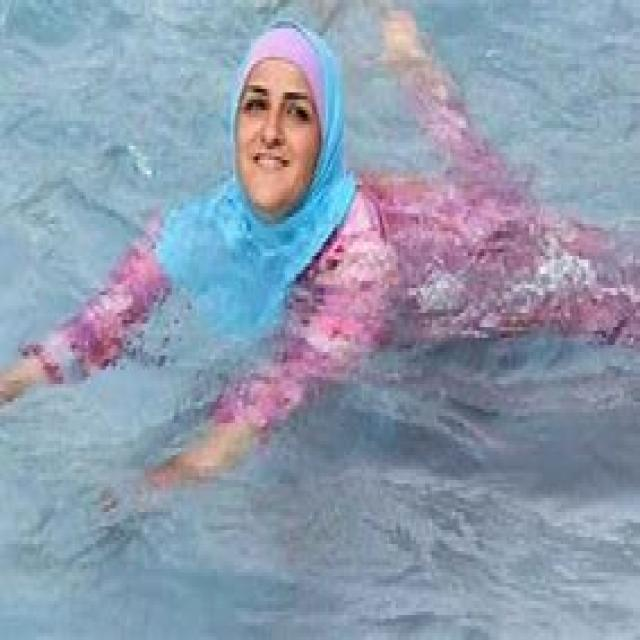swimming: (60, 27, 633, 489)
